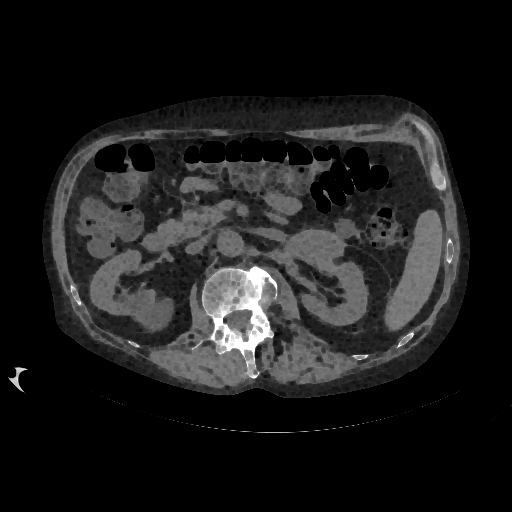Lesion: (284, 226, 346, 263)
